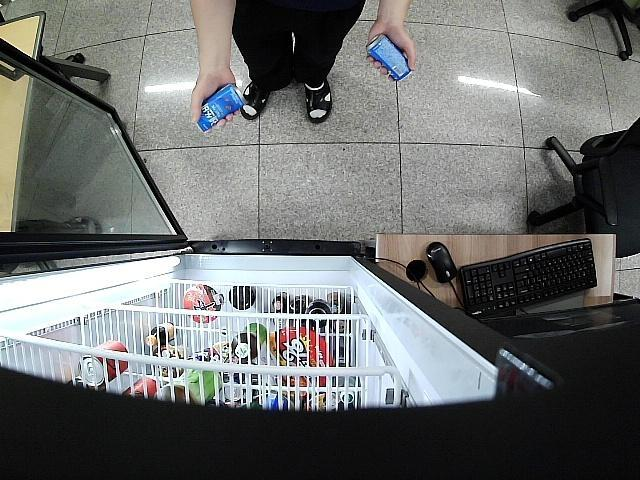15_letsbe: (366, 31, 412, 84), (194, 84, 242, 134)
